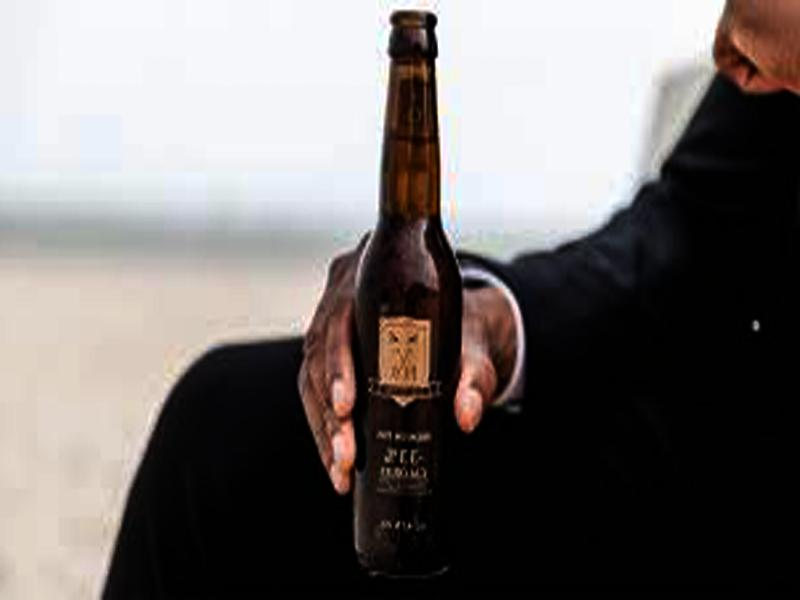Beer: (351, 11, 457, 578)
